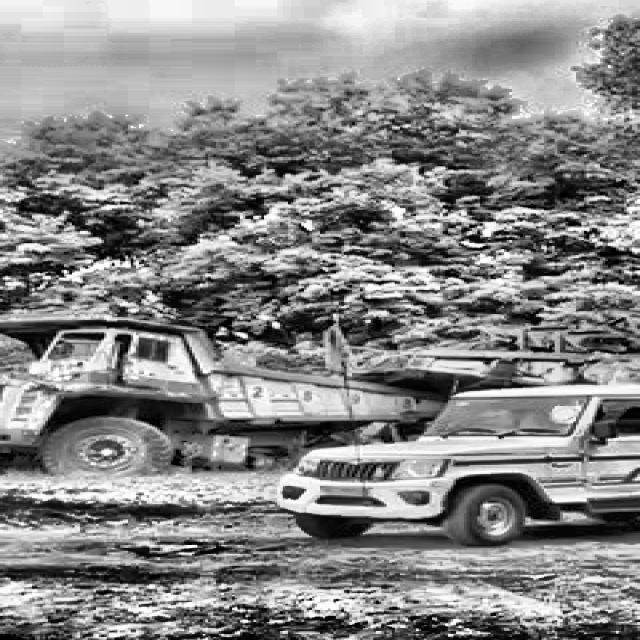dump_truck: (0, 314, 304, 474)
light_vehicle: (272, 374, 640, 528)
